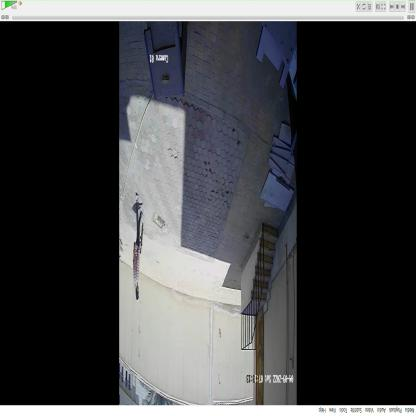handgun: (134, 220, 147, 260)
